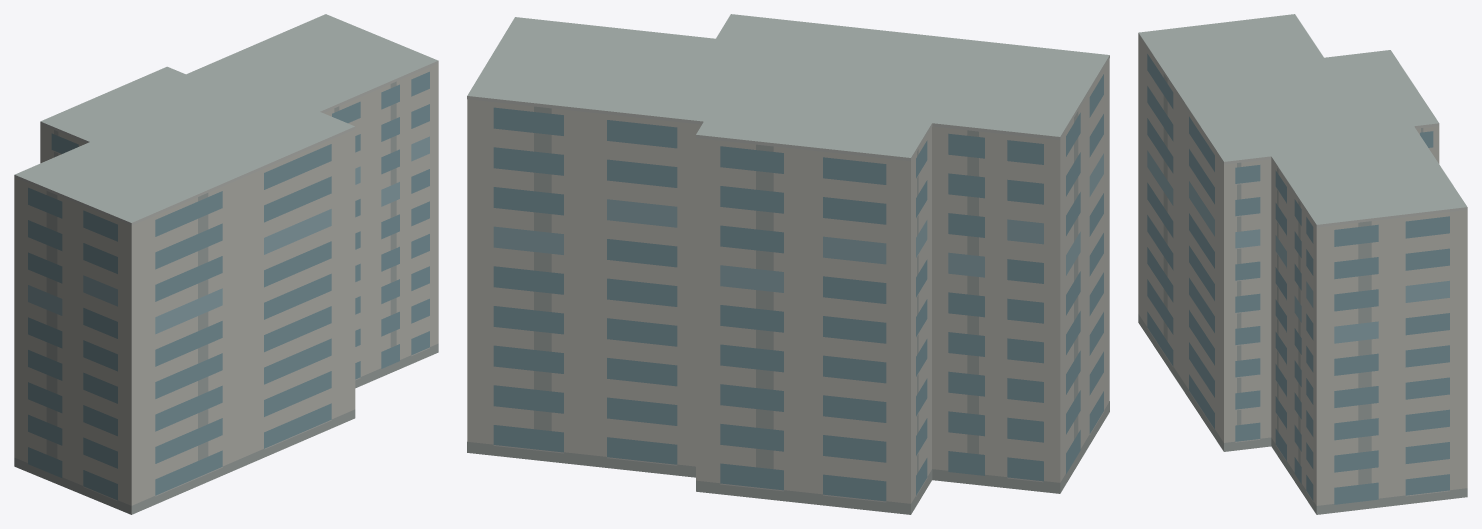
File: residential-02eb8d66-b74d-4068-a174-0f2116fc8d76.glb
The picture shows the model from 3 angles, left to right: view 1: azimuth 30°, elevation 25°; view 2: azimuth 150°, elevation 25°; view 3: azimuth 270°, elevation 25°; orthographic projection. The views are drawn at different scales.
Parts seen in each view (by area): view 1: residential-02eb8d66-b74d-4068-a174-0f2116fc8d76.tmp; view 2: residential-02eb8d66-b74d-4068-a174-0f2116fc8d76.tmp; view 3: residential-02eb8d66-b74d-4068-a174-0f2116fc8d76.tmp.
Boxes of the visible parts, left/top/right/bottom form: residential-02eb8d66-b74d-4068-a174-0f2116fc8d76.tmp: left=14, top=14, right=438, bottom=514; residential-02eb8d66-b74d-4068-a174-0f2116fc8d76.tmp: left=467, top=14, right=1109, bottom=514; residential-02eb8d66-b74d-4068-a174-0f2116fc8d76.tmp: left=1138, top=14, right=1467, bottom=514.
Size of the model in its own units: 40.55 by 26 by 26.75.
